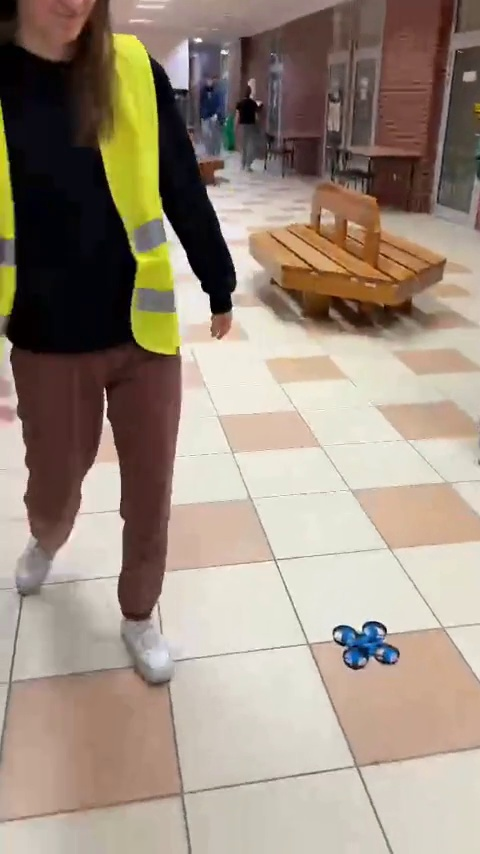drone: (331, 620, 400, 671)
no vest: (228, 87, 269, 173), (195, 68, 223, 162)
vest: (6, 6, 200, 671)
